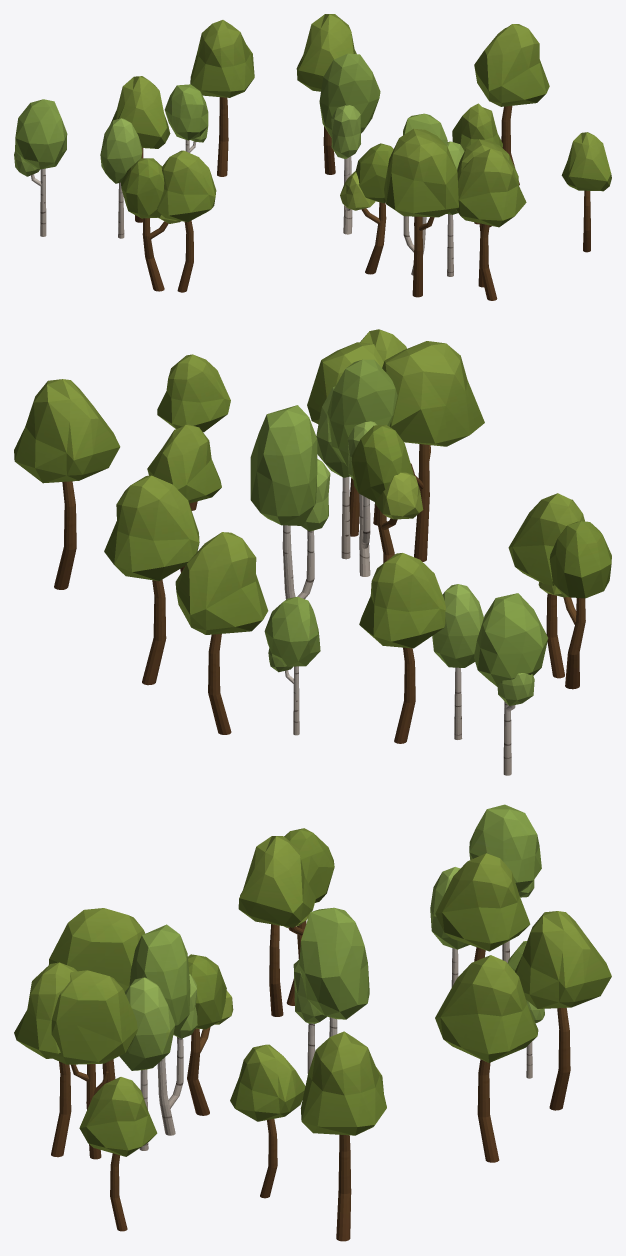
Rendered from Trees8.gltf.
The picture shows the model from 3 angles, top to bottom: view 1: azimuth 30°, elevation 25°; view 2: azimuth 150°, elevation 25°; view 3: azimuth 270°, elevation 25°; orthographic projection. The views are drawn at different scales.
Parts seen in each view (by area): view 1: Beechtree3 - copy.012, Beechtree1 - copy.027, BirchTree2 - copy.008, Beechtree1 - copy.036, Beechtree1 - copy.026, Beechtree1 - copy.013, BirchTree3 - copy.003, Beechtree1 - copy.023, Beechtree2 - copy.024, Beechtree2 - copy.038, Beechtree1 - copy.054, Beechtree1 - copy.004 (+6 smaller); view 2: Beechtree3 - copy.012, Beechtree1 - copy.027, BirchTree2 - copy.008, Beechtree1 - copy.023, Beechtree1 - copy.026, Beechtree1 - copy.054, BirchTree3 - copy.003, BirchTree2 - copy.015, Beechtree2 - copy.024, Beechtree2 - copy.038, Beechtree1 - copy.013, Beechtree1 - copy.004 (+6 smaller); view 3: Beechtree1 - copy.023, Beechtree1 - copy.027, Beechtree1 - copy.026, BirchTree2 - copy.008, Beechtree3 - copy.009, Beechtree1 - copy.054, Beechtree1 - copy.013, BirchTree2 - copy.015, Beechtree3 - copy.012, Beechtree1 - copy.004, Beechtree1 - copy.037, Beechtree1 - copy.036 (+6 smaller).
Boxes of the visible parts, box(x1,y1,x2,y2) form: Beechtree3 - copy.012: box(384, 128, 458, 297); Beechtree1 - copy.027: box(474, 24, 549, 185); BirchTree2 - copy.008: box(319, 53, 380, 234); Beechtree1 - copy.036: box(456, 149, 526, 300); Beechtree1 - copy.026: box(190, 20, 254, 176); Beechtree1 - copy.013: box(157, 150, 216, 292); BirchTree3 - copy.003: box(14, 99, 67, 236); Beechtree1 - copy.023: box(296, 14, 356, 174); Beechtree2 - copy.024: box(340, 143, 393, 274); Beechtree2 - copy.038: box(121, 158, 180, 291); Beechtree1 - copy.054: box(110, 76, 170, 222); Beechtree1 - copy.004: box(561, 132, 611, 252); Beechtree3 - copy.012: box(382, 341, 484, 561); Beechtree1 - copy.027: box(14, 379, 120, 589); BirchTree2 - copy.008: box(250, 405, 330, 599); Beechtree1 - copy.023: box(104, 475, 199, 685); Beechtree1 - copy.026: box(175, 532, 268, 734); Beechtree1 - copy.054: box(359, 553, 445, 743); BirchTree3 - copy.003: box(474, 593, 548, 775); BirchTree2 - copy.015: box(327, 359, 397, 576); Beechtree2 - copy.024: box(351, 425, 423, 563); Beechtree2 - copy.038: box(538, 521, 611, 689); Beechtree1 - copy.013: box(508, 493, 584, 678); Beechtree1 - copy.004: box(157, 354, 230, 510); Beechtree1 - copy.023: box(435, 955, 538, 1162); Beechtree1 - copy.027: box(300, 1031, 386, 1241); Beechtree1 - copy.026: box(515, 911, 611, 1110); BirchTree2 - copy.008: box(293, 907, 369, 1073); Beechtree3 - copy.009: box(50, 970, 137, 1159); Beechtree1 - copy.054: box(435, 853, 530, 961); Beechtree1 - copy.013: box(238, 836, 315, 1016); BirchTree2 - copy.015: box(129, 924, 197, 1135); Beechtree3 - copy.012: box(49, 908, 145, 1082); Beechtree1 - copy.004: box(79, 1077, 157, 1231); Beechtree1 - copy.037: box(230, 1044, 305, 1198); Beechtree1 - copy.036: box(14, 962, 76, 1157).
Size of the model in its own units: 32.07 by 11.52 by 27.82.
Materials: 6 (6 with a texture image).
